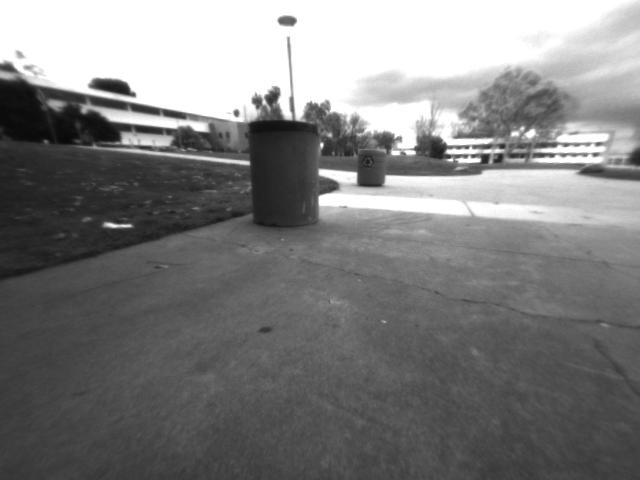trashcan: (240, 115, 330, 232), (353, 144, 393, 193)
